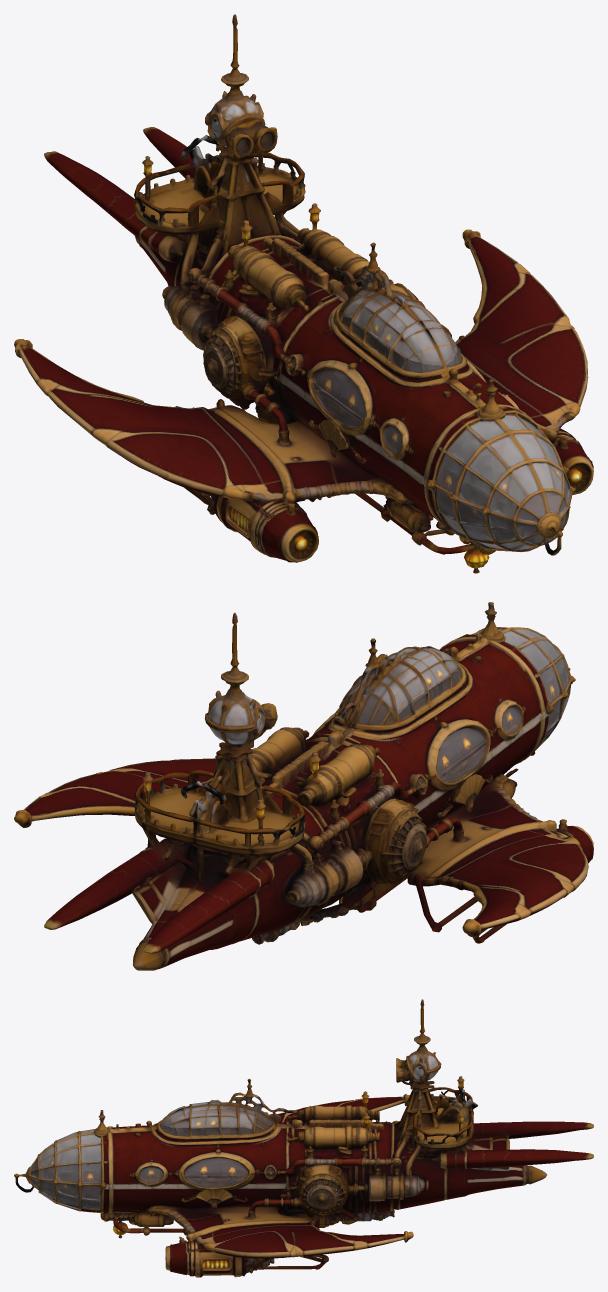
3 renders of one model, top to bottom at view 1: azimuth 30°, elevation 25°; view 2: azimuth 150°, elevation 25°; view 3: azimuth 270°, elevation 25°, orthographic. The views are drawn at different scales.
Visible parts, largest first — view 1: geometry_0; view 2: geometry_0; view 3: geometry_0.
Boxes of the visible parts, left/top/right/bottom form: geometry_0: left=14, top=14, right=593, bottom=573; geometry_0: left=14, top=602, right=593, bottom=970; geometry_0: left=14, top=999, right=593, bottom=1277.
Size of the model in its own units: 0.6034 by 0.4536 by 0.9994.
1 material, 1 textured.
